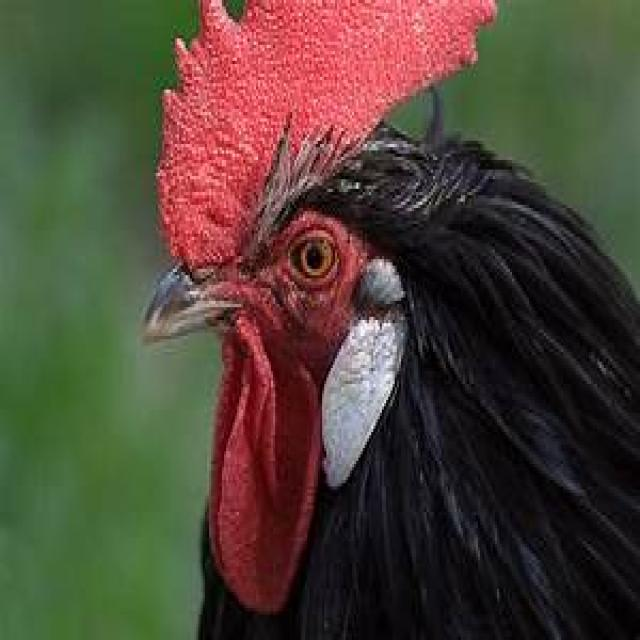hen: (139, 0, 640, 640)
